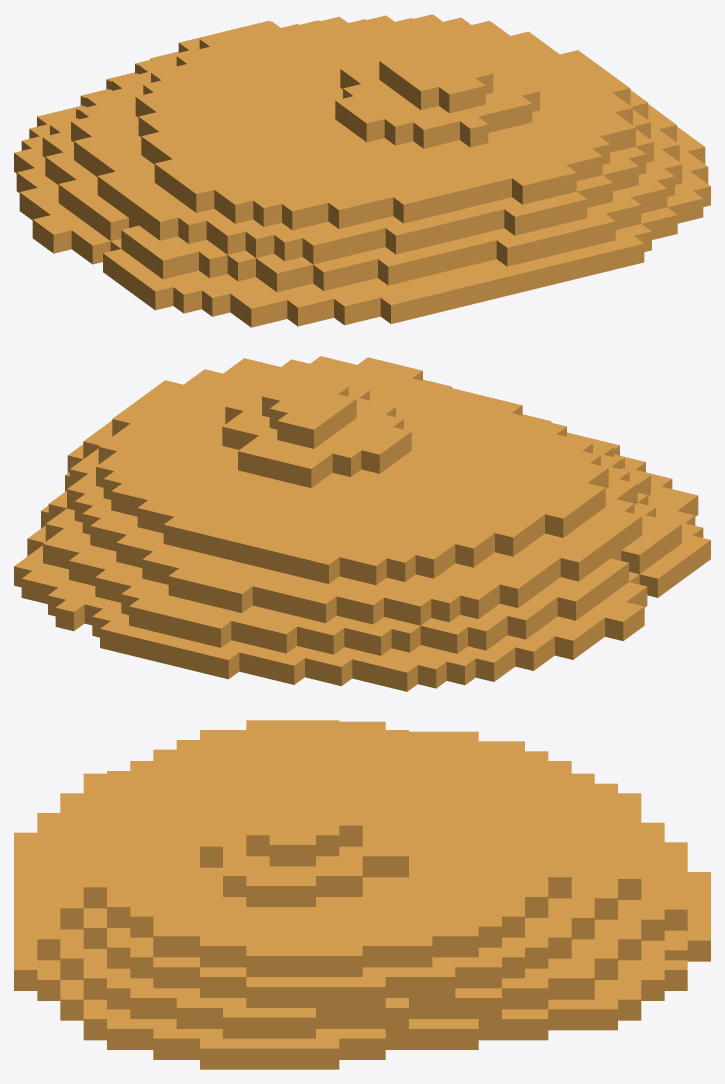
Rendered from Hill1.obj.
The picture shows the model from 3 angles, top to bottom: view 1: azimuth 30°, elevation 25°; view 2: azimuth 150°, elevation 25°; view 3: azimuth 270°, elevation 25°; orthographic projection. The views are drawn at different scales.
Visible parts, largest first — view 1: Hill1; view 2: Hill1; view 3: Hill1.
Boxes of the visible parts, x1,y1,x2,y2 form: Hill1: [14, 14, 710, 327]; Hill1: [14, 356, 710, 691]; Hill1: [14, 720, 710, 1069].
Bounding box in the file's own units: 32 × 6 × 30.
1 material, 1 textured.
